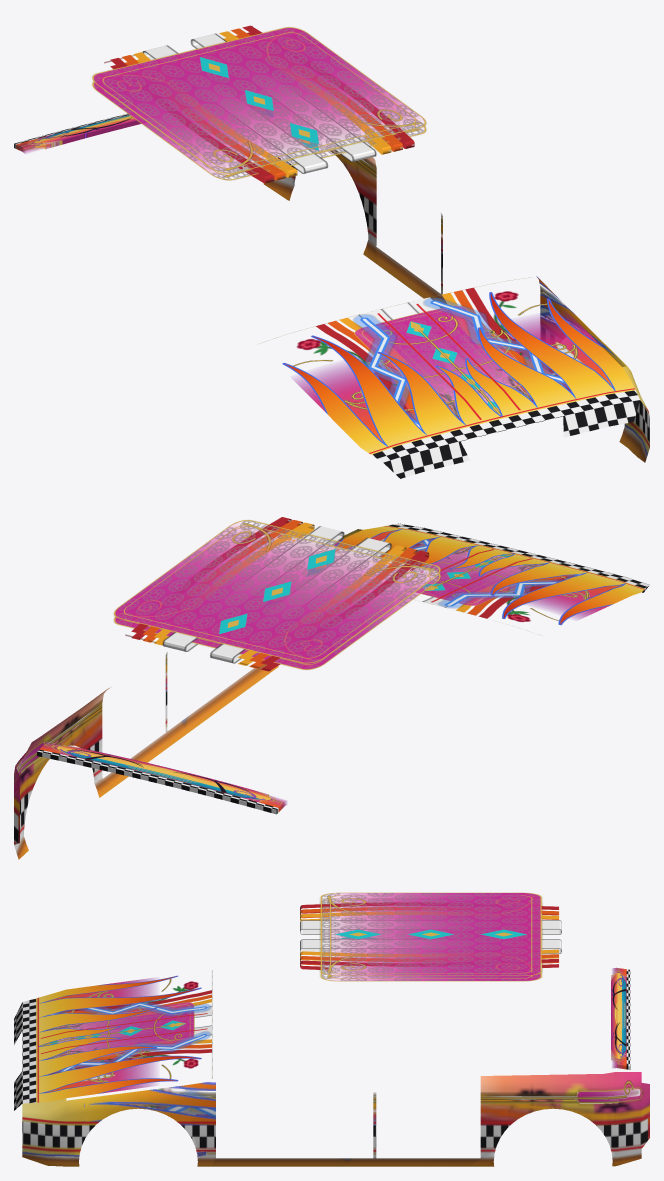
File: KazumiK2Vinyls.glb
The picture shows the model from 3 angles, top to bottom: view 1: azimuth 30°, elevation 25°; view 2: azimuth 150°, elevation 25°; view 3: azimuth 270°, elevation 25°; orthographic projection. The views are drawn at different scales.
Parts seen in each view (by area): view 1: KazumiK2Livery_patterns_roof, KazumiK2Livery_purple_lace_roof, KazumiK2Livery_flames_hood, KazumiK2Livery_checker_hood, KazumiK2Livery_patterns_hood, KazumiK2Livery_retro_waves_roof, KazumiK2Livery_stripes_roof, KazumiK2Livery_lightning_hood, KazumiK2Livery_purple_lace_hood, KazumiK2Livery_sunset_fade_hood, KazumiK2Livery_retro_waves_hood, KazumiK2Livery_tropical_hood (+11 smaller); view 2: KazumiK2Livery_patterns_roof, KazumiK2Livery_purple_lace_roof, KazumiK2Livery_flames_hood, KazumiK2Livery_retro_waves_roof, KazumiK2Livery_stripes_roof, KazumiK2Livery_sunset_fade_side, KazumiK2Livery_patterns_hood, KazumiK2Livery_mural_trunk, KazumiK2Livery_checker_trunk, KazumiK2Livery_tropical_side, KazumiK2Livery_showcar_roof, KazumiK2Livery_checker_hood (+9 smaller); view 3: KazumiK2Livery_patterns_roof, KazumiK2Livery_purple_lace_roof, KazumiK2Livery_flames_hood, KazumiK2Livery_flames_side, KazumiK2Livery_checker_side, KazumiK2Livery_tropical_side, KazumiK2Livery_sunset_fade_side, KazumiK2Livery_retro_waves_roof, KazumiK2Livery_patterns_hood, KazumiK2Livery_stripes_roof, KazumiK2Livery_checker_hood, KazumiK2Livery_retro_waves_side (+18 smaller).
Part boxes in pixels (<box>): KazumiK2Livery_patterns_roof: <box>92,27,425,180</box>; KazumiK2Livery_purple_lace_roof: <box>99,34,423,179</box>; KazumiK2Livery_flames_hood: <box>282,292,635,454</box>; KazumiK2Livery_checker_hood: <box>369,304,640,478</box>; KazumiK2Livery_patterns_hood: <box>354,305,531,418</box>; KazumiK2Livery_retro_waves_roof: <box>104,25,414,183</box>; KazumiK2Livery_stripes_roof: <box>143,33,376,173</box>; KazumiK2Livery_lightning_hood: <box>353,297,568,428</box>; KazumiK2Livery_purple_lace_hood: <box>392,317,529,416</box>; KazumiK2Livery_sunset_fade_hood: <box>295,314,612,442</box>; KazumiK2Livery_retro_waves_hood: <box>316,287,571,421</box>; KazumiK2Livery_tropical_hood: <box>297,316,596,413</box>; KazumiK2Livery_patterns_roof: <box>114,520,440,669</box>; KazumiK2Livery_purple_lace_roof: <box>121,520,438,663</box>; KazumiK2Livery_flames_hood: <box>335,525,644,624</box>; KazumiK2Livery_retro_waves_roof: <box>125,517,429,671</box>; KazumiK2Livery_stripes_roof: <box>162,526,391,663</box>; KazumiK2Livery_sunset_fade_side: <box>14,654,278,859</box>; KazumiK2Livery_patterns_hood: <box>415,547,540,605</box>; KazumiK2Livery_mural_trunk: <box>44,744,282,803</box>; KazumiK2Livery_checker_trunk: <box>37,749,279,814</box>; KazumiK2Livery_tropical_side: <box>14,687,110,828</box>; KazumiK2Livery_showcar_roof: <box>113,520,440,669</box>; KazumiK2Livery_checker_hood: <box>384,523,649,602</box>; KazumiK2Livery_patterns_roof: <box>320,893,541,981</box>; KazumiK2Livery_purple_lace_roof: <box>322,893,522,980</box>; KazumiK2Livery_flames_hood: <box>36,975,201,1102</box>; KazumiK2Livery_flames_side: <box>22,1082,626,1156</box>; KazumiK2Livery_checker_side: <box>22,1114,648,1152</box>; KazumiK2Livery_tropical_side: <box>480,1072,649,1126</box>; KazumiK2Livery_sunset_fade_side: <box>22,1094,649,1166</box>; KazumiK2Livery_retro_waves_roof: <box>300,902,558,970</box>; KazumiK2Livery_patterns_hood: <box>43,1002,194,1057</box>; KazumiK2Livery_stripes_roof: <box>300,920,561,953</box>; KazumiK2Livery_checker_hood: <box>14,971,212,1110</box>; KazumiK2Livery_retro_waves_side: <box>126,1093,649,1137</box>.
Bounding box in the file's own units: 6.37 × 4.63 × 15.18.
Materials: 50 (50 with a texture image).
